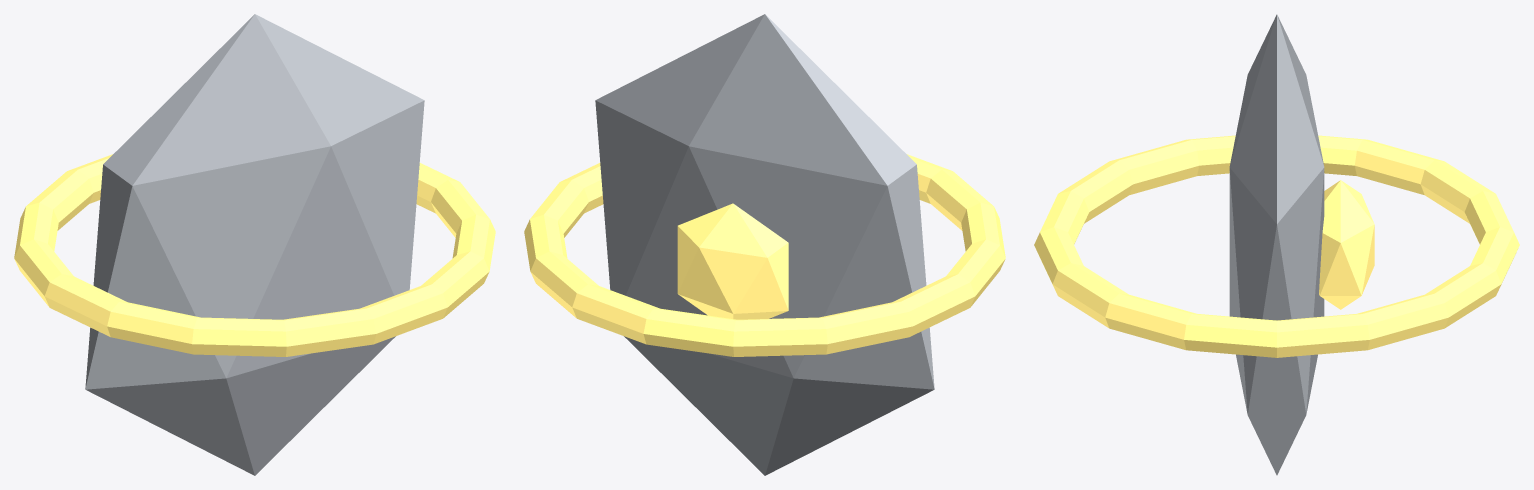
The model's file is shield.glb.
3 views of the same model, side by side, from view 1: azimuth 30°, elevation 25°; view 2: azimuth 150°, elevation 25°; view 3: azimuth 270°, elevation 25° (orthographic).
Parts seen in each view (by area): view 1: Shield; view 2: Shield; view 3: Shield.
Boxes of the visible parts, x1,y1,x2,y2 form: Shield: [14, 14, 495, 475]; Shield: [524, 14, 1005, 475]; Shield: [1034, 14, 1519, 475].
Bounding box in the file's own units: 1.22 × 1.28 × 1.22.
